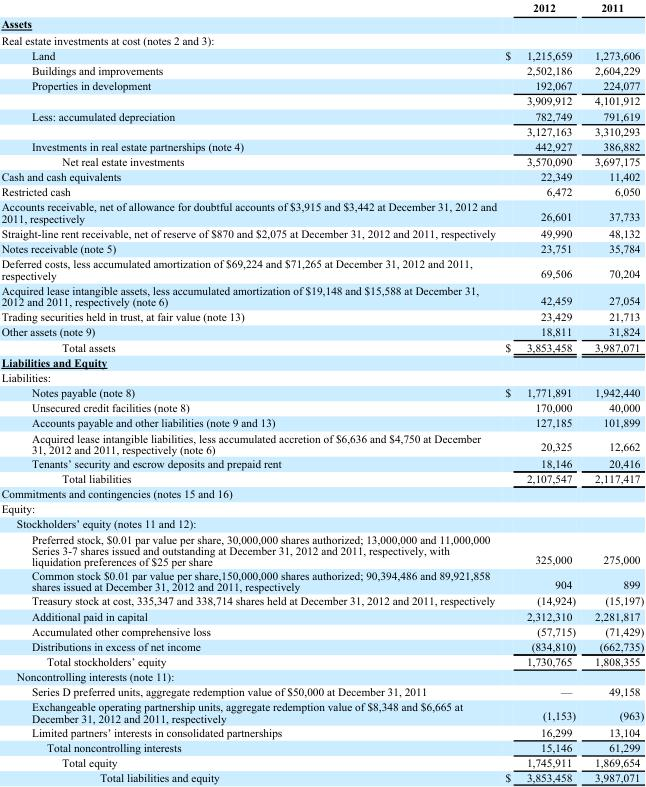table: (0, 0, 643, 783)
table column: (0, 0, 500, 783), (500, 0, 584, 783), (584, 0, 643, 783)
table column header: (0, 0, 643, 15)
table projected row header: (0, 15, 643, 31), (0, 31, 643, 47), (0, 500, 643, 516), (0, 354, 643, 369), (0, 369, 643, 384), (0, 485, 643, 500), (0, 516, 643, 531), (0, 668, 643, 683)
table row: (0, 531, 643, 568), (0, 255, 643, 282), (0, 199, 643, 225), (0, 282, 643, 308), (0, 430, 643, 456), (0, 568, 643, 593), (0, 699, 643, 724), (0, 15, 643, 31), (0, 31, 643, 47), (0, 77, 643, 93), (0, 183, 643, 199), (0, 308, 643, 324), (0, 414, 643, 430), (0, 500, 643, 516), (0, 683, 643, 699), (0, 0, 643, 15), (0, 47, 643, 62), (0, 62, 643, 77), (0, 93, 643, 108), (0, 108, 643, 123), (0, 123, 643, 138), (0, 138, 643, 153), (0, 153, 643, 168), (0, 168, 643, 183), (0, 225, 643, 240), (0, 240, 643, 255), (0, 324, 643, 339), (0, 339, 643, 354), (0, 354, 643, 369), (0, 369, 643, 384), (0, 384, 643, 399), (0, 399, 643, 414), (0, 470, 643, 485), (0, 485, 643, 500), (0, 516, 643, 531), (0, 593, 643, 608), (0, 608, 643, 623), (0, 623, 643, 638), (0, 638, 643, 653), (0, 653, 643, 668), (0, 668, 643, 683), (0, 724, 643, 739), (0, 739, 643, 754), (0, 754, 643, 769), (0, 456, 643, 470), (0, 769, 643, 783)
